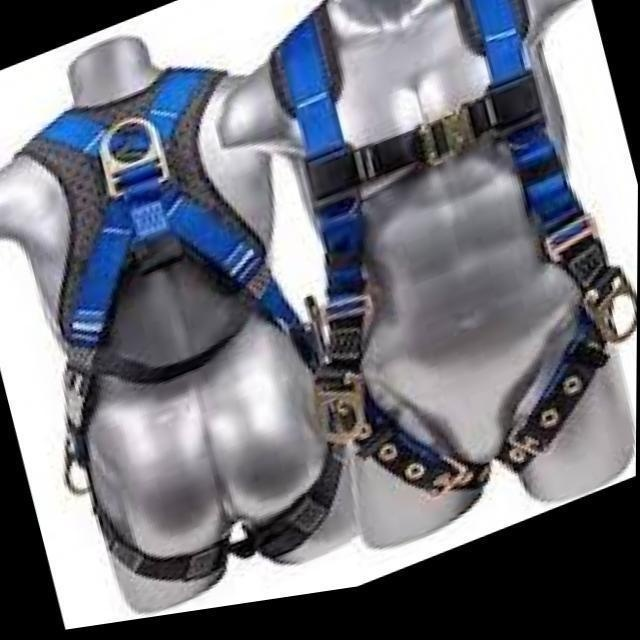Arnes_seguridad: (254, 11, 633, 507), (19, 52, 348, 585)
